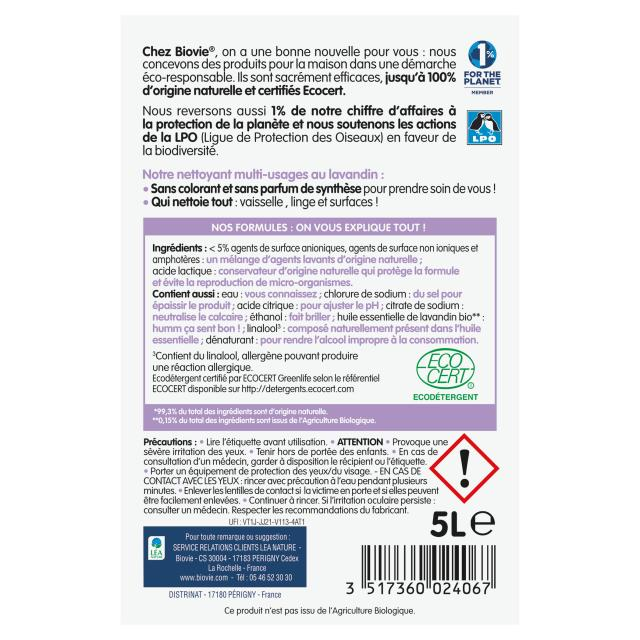GHS_Symbol_EXCLAMATION_MARK: (431, 434, 499, 504)
